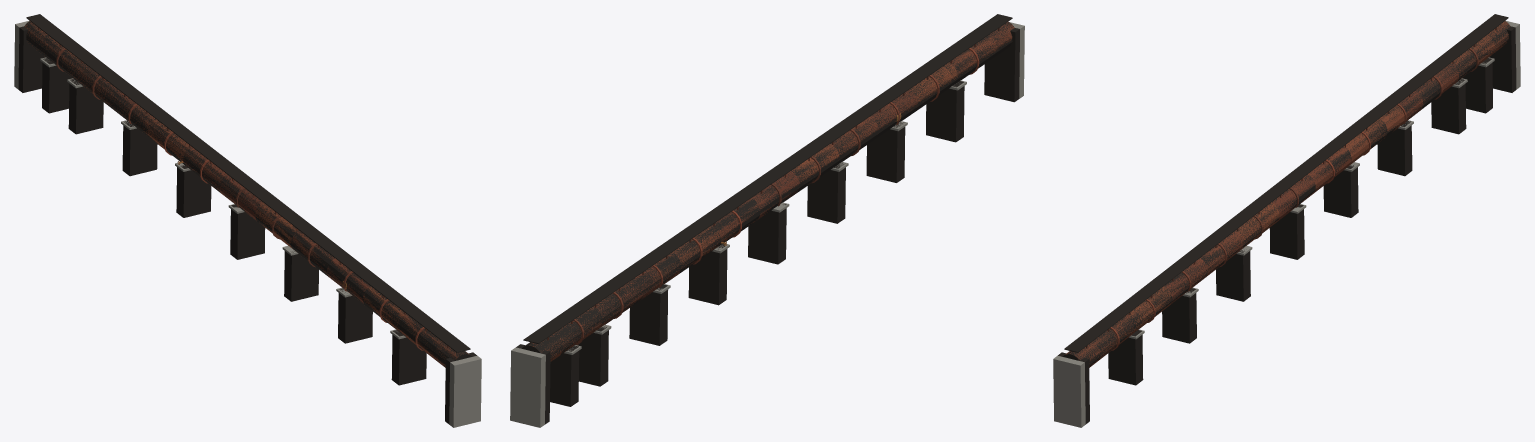
The model's file is penstock_run.glb.
The picture shows the model from 3 angles, left to right: view 1: azimuth 30°, elevation 25°; view 2: azimuth 150°, elevation 25°; view 3: azimuth 330°, elevation 25°; orthographic projection. The views are drawn at different scales.
Parts seen in each view (by area): view 1: penstock_run-col-col, penstock_run_body; view 2: penstock_run-col-col, penstock_run_body; view 3: penstock_run-col-col, penstock_run_body.
Part boxes in pixels (box(x1,y1,x2,y2)): penstock_run-col-col: box(18, 14, 476, 424); penstock_run_body: box(14, 20, 481, 427); penstock_run-col-col: box(516, 14, 1019, 424); penstock_run_body: box(510, 21, 1024, 427); penstock_run-col-col: box(1058, 14, 1516, 424); penstock_run_body: box(1053, 20, 1520, 427).
Size of the model in its own units: 4.98 by 14.03 by 123.
